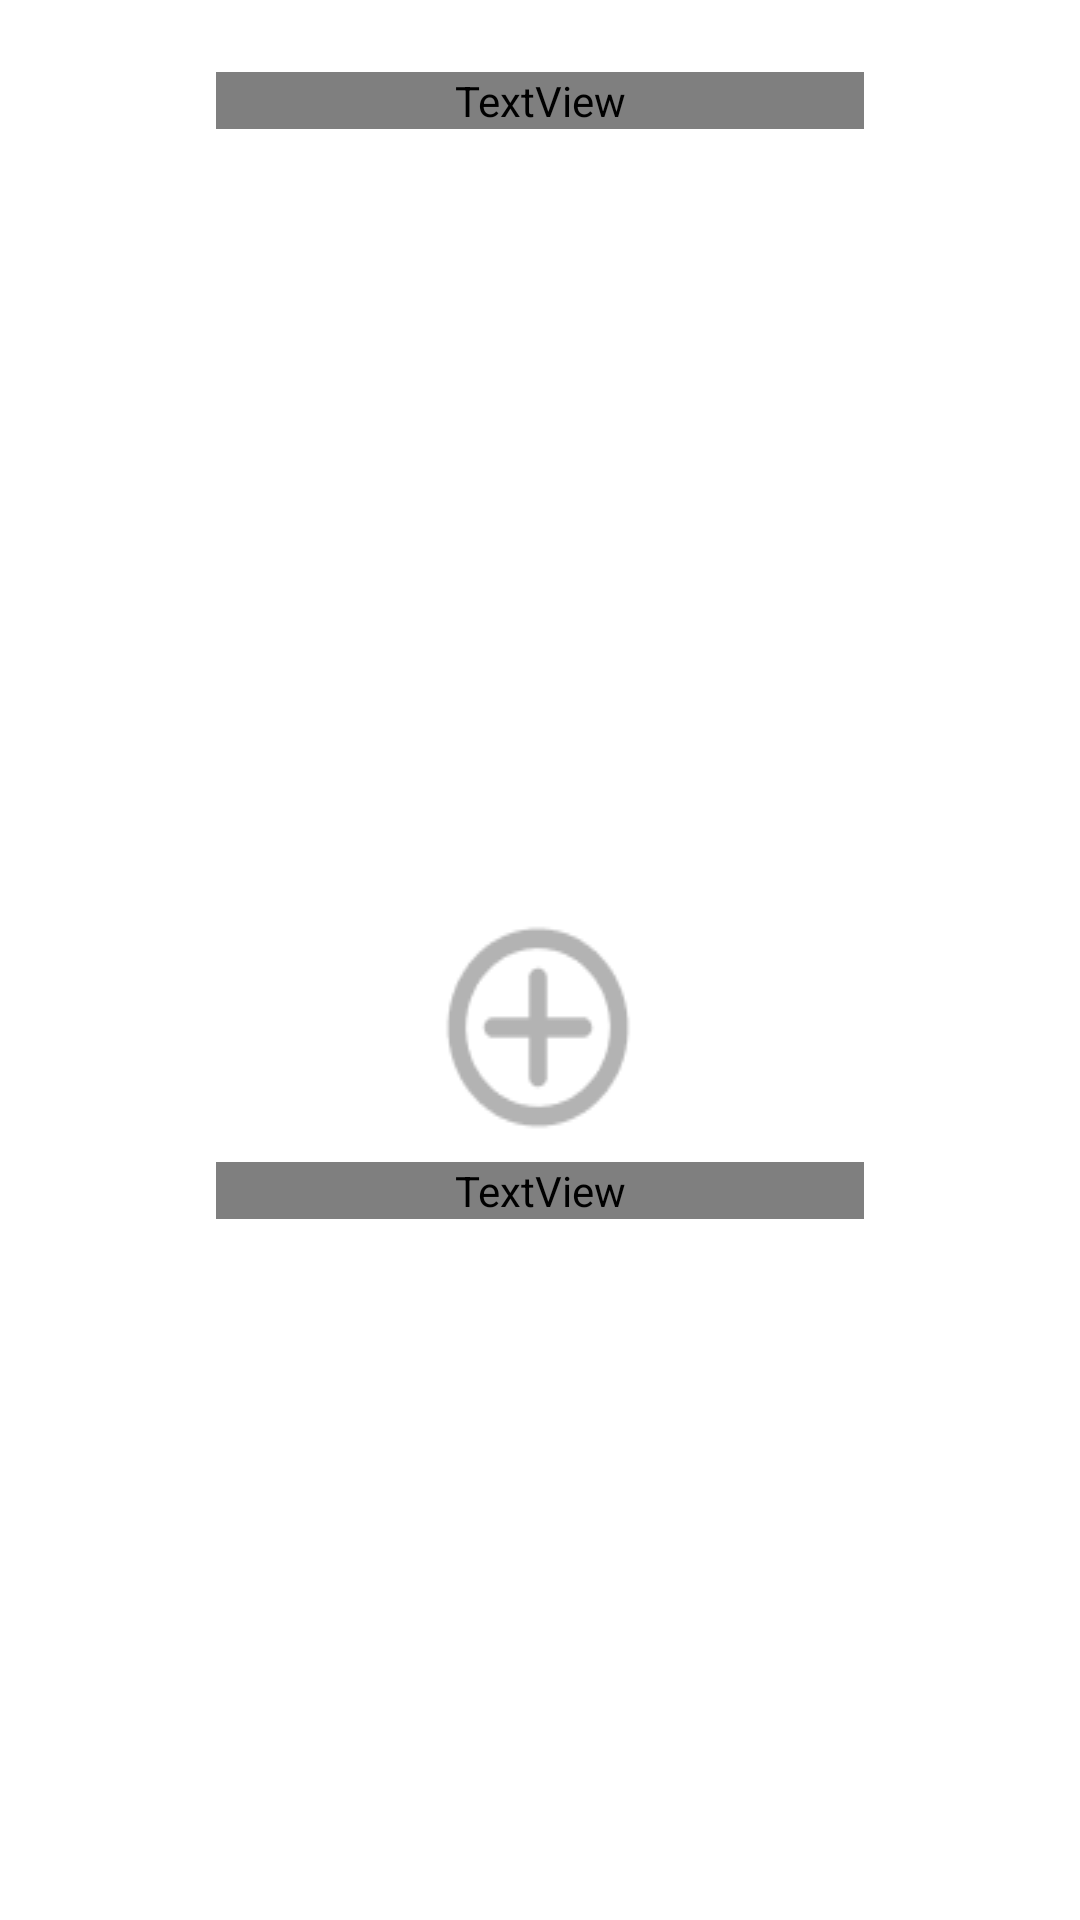

Named icons in this screenshot (1080px x 1920px) and their centers, point (x, y):
addsign: point (538, 1027)
